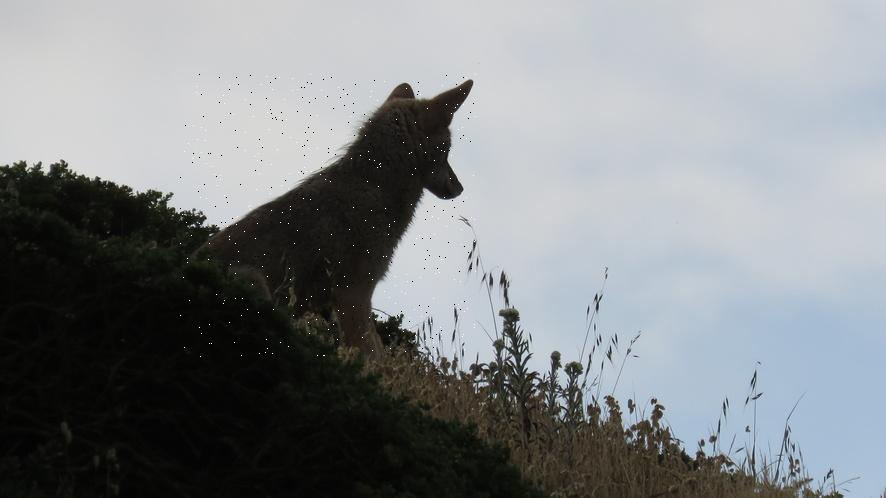Coyote: (180, 75, 476, 360)
